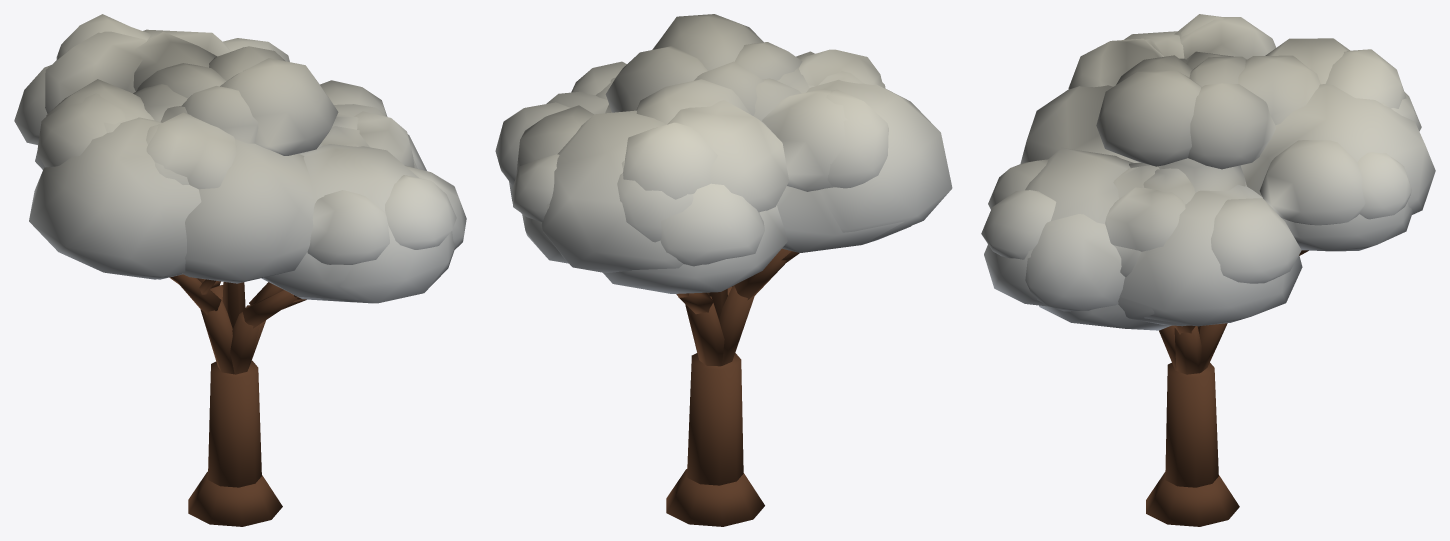
3 views of the same model, side by side, from view 1: azimuth 30°, elevation 25°; view 2: azimuth 150°, elevation 25°; view 3: azimuth 270°, elevation 25° (orthographic). The views are drawn at different scales.
Parts seen in each view (by area): view 1: crown, trunk; view 2: crown, trunk; view 3: crown, trunk.
Boxes of the visible parts, x1,y1,x2,y2 form: crown: (14,14,466,303); trunk: (169,274,306,526); crown: (495,14,952,293); trunk: (666,248,799,526); crown: (981,14,1435,330); trunk: (1146,250,1308,526).
Size of the model in its own units: 12.46 by 13.85 by 12.84.
